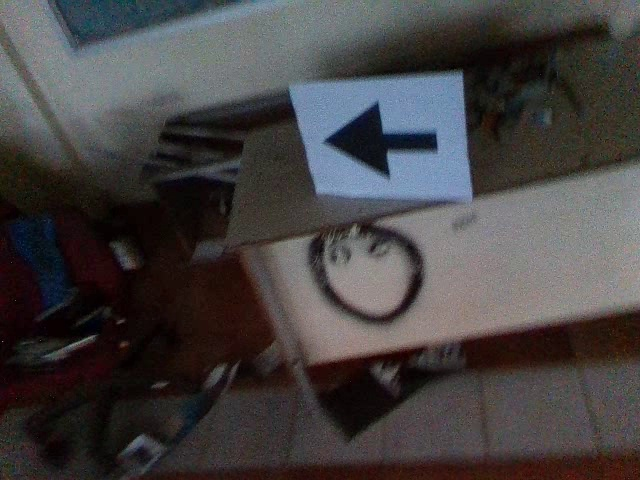Left: (316, 93, 442, 184)
